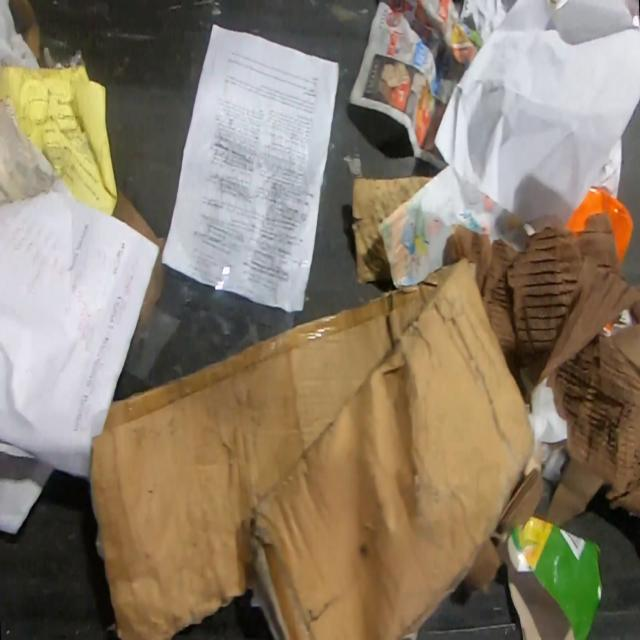cardboard: (87, 256, 534, 639), (494, 514, 604, 640), (350, 173, 434, 284), (111, 184, 166, 249), (8, 0, 42, 63)
rigid_plastic: (562, 185, 635, 271), (600, 319, 614, 337)
soft_plastic: (120, 228, 316, 450)
